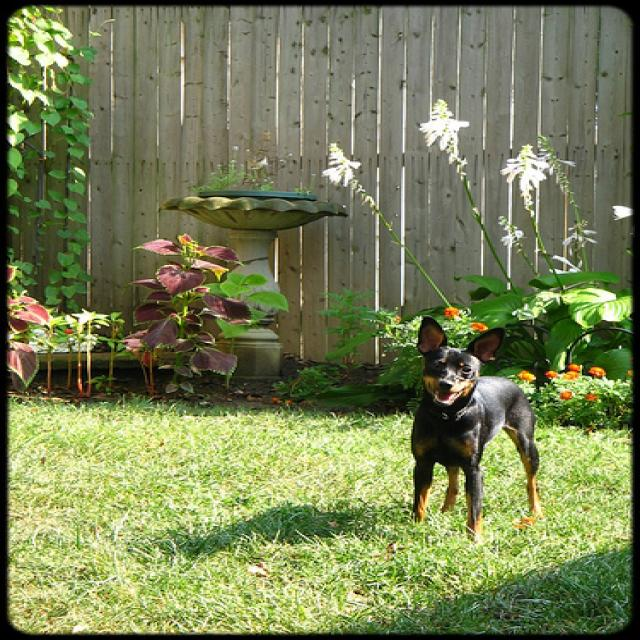dog-miniature_pinscher: (404, 307, 543, 538)
